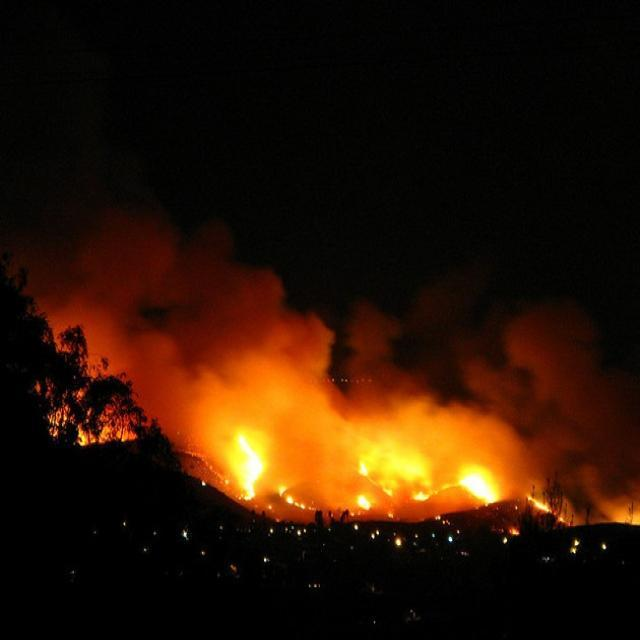Fire: (19, 0, 638, 518), (351, 440, 434, 510), (219, 422, 270, 495), (447, 459, 500, 500)
Smoke: (62, 218, 328, 386), (341, 306, 614, 432)
